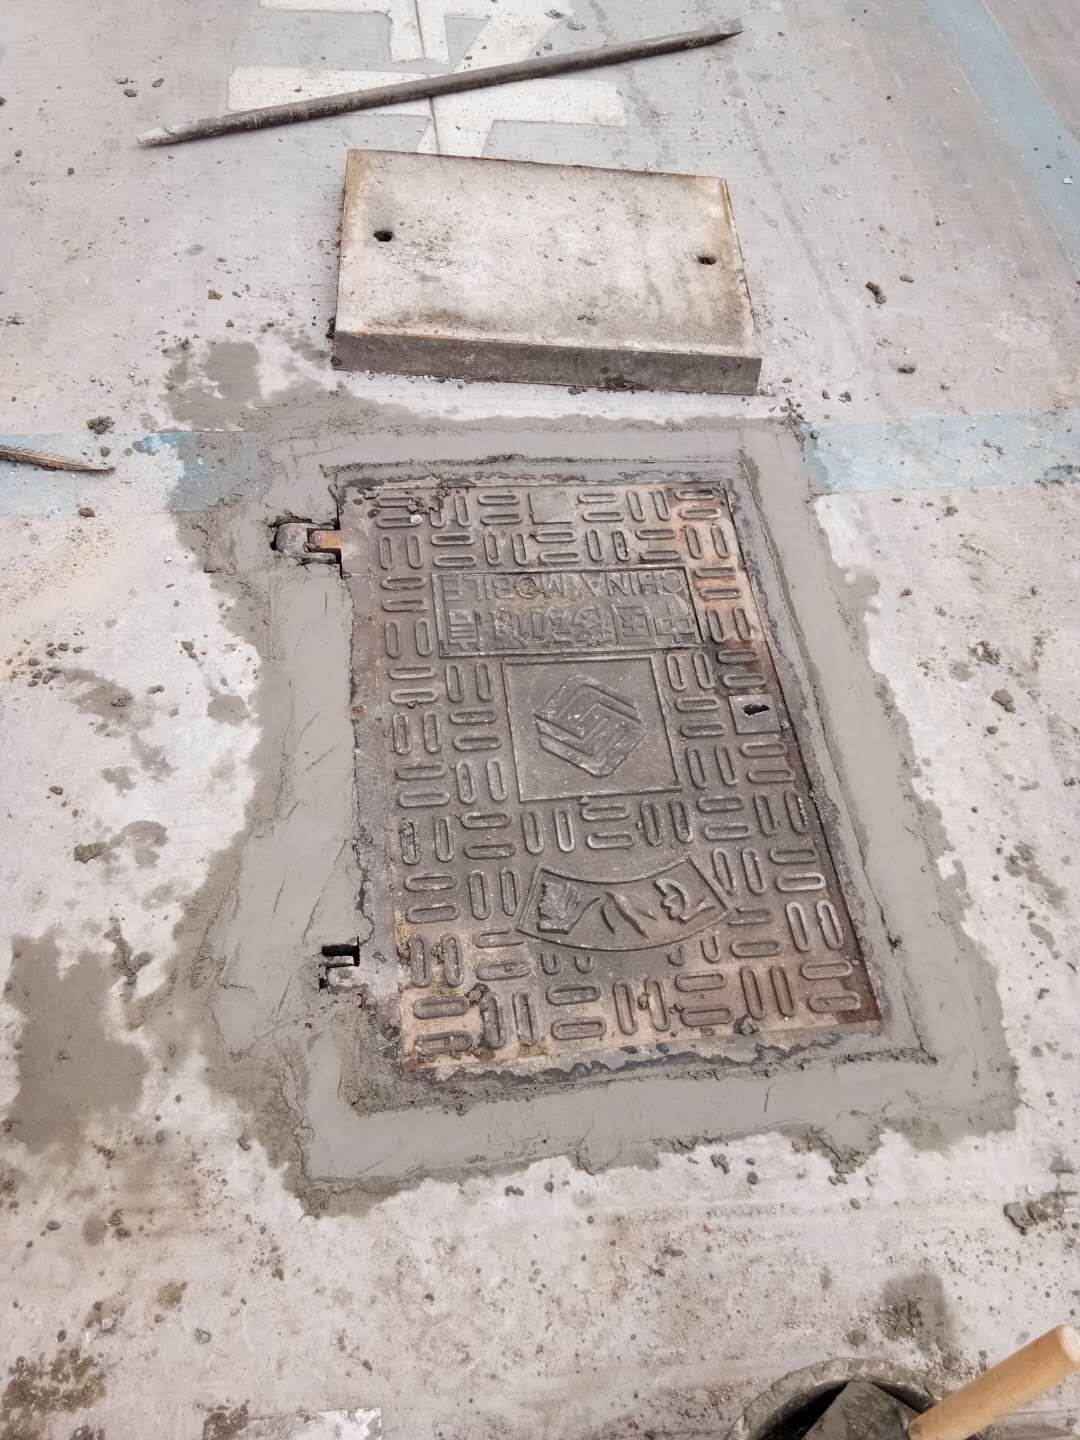good: (278, 456, 939, 1096)
